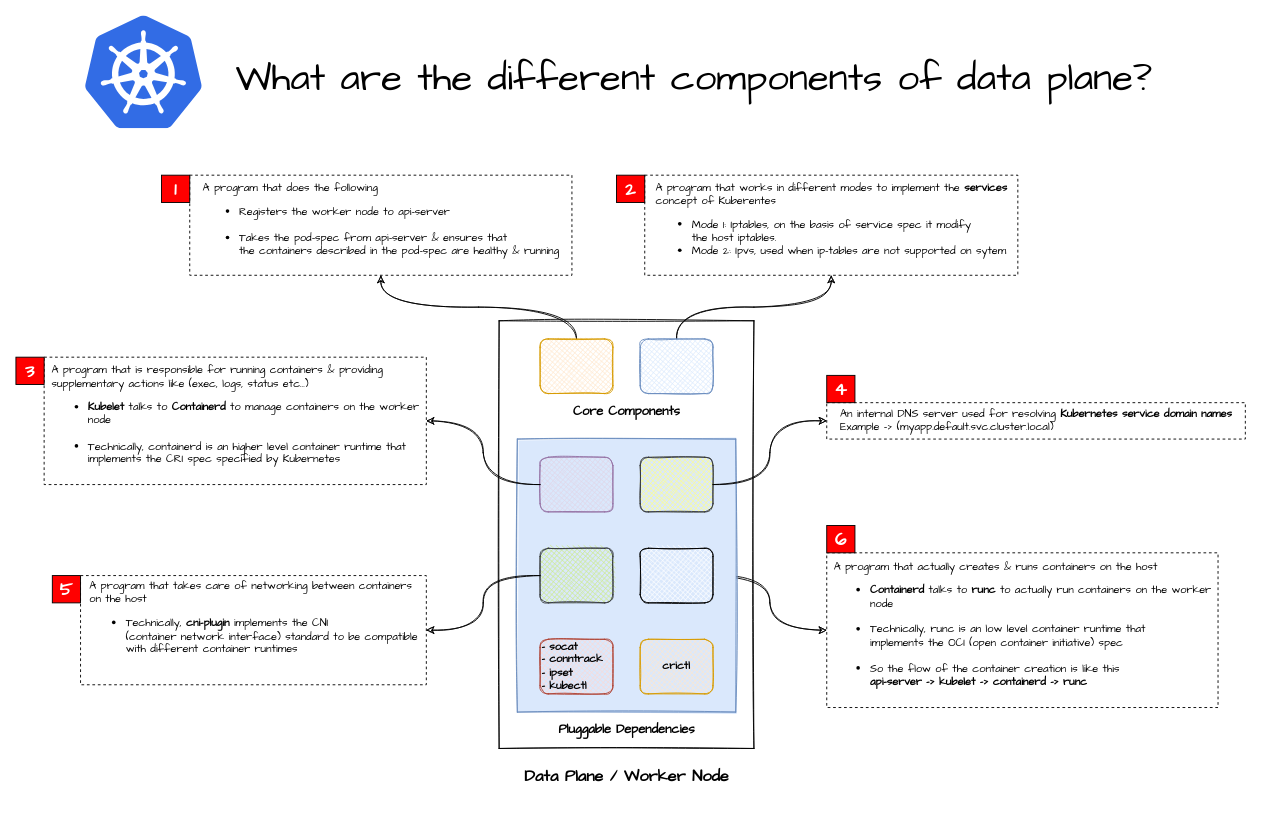
The diagram is 1261 pixels wide and 818 high, and some of its shapes have lost their labels. Here are the shapes that lost their labels. From the top down, the centre of each, then its label:
At pixel 576 366: "kubelet".
At pixel 676 366: "kube-proxy".
At pixel 576 484: "containerd".
At pixel 676 484: "coredns".
At pixel 576 575: "cni-plugin".
At pixel 676 575: "runc".
